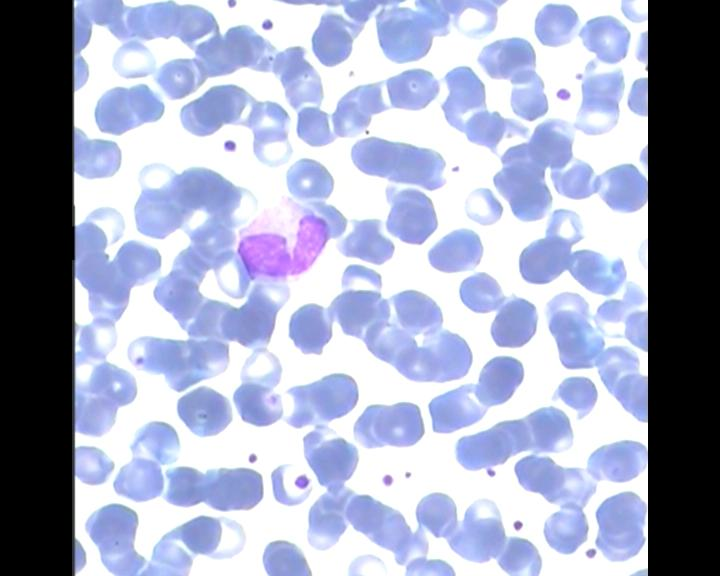mono: (234, 191, 333, 288)
